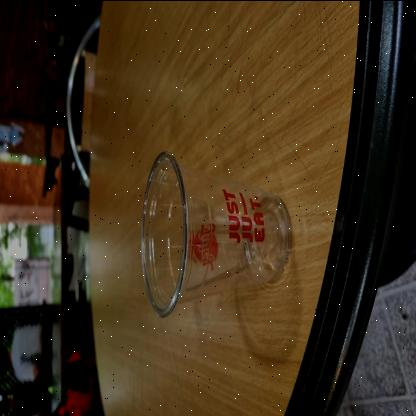Others: (137, 146, 294, 326)
